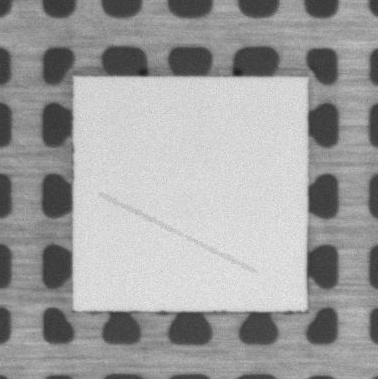DIE_CRACK: (101, 195, 255, 273)
